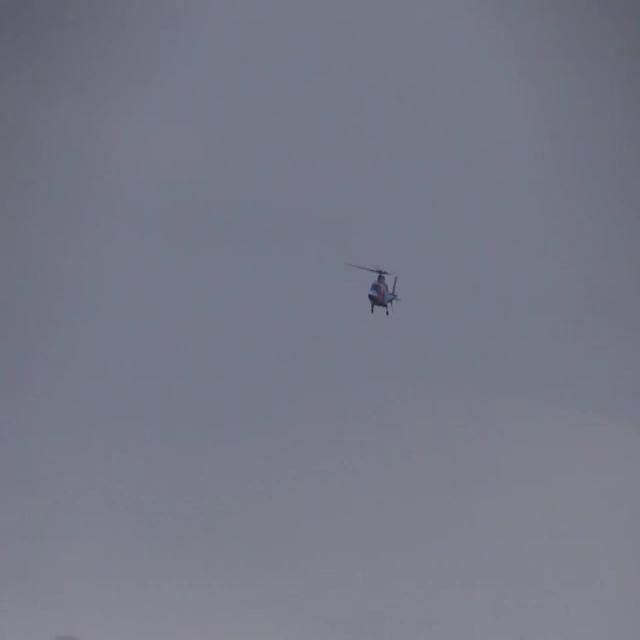Helicopter: (332, 252, 424, 329)
